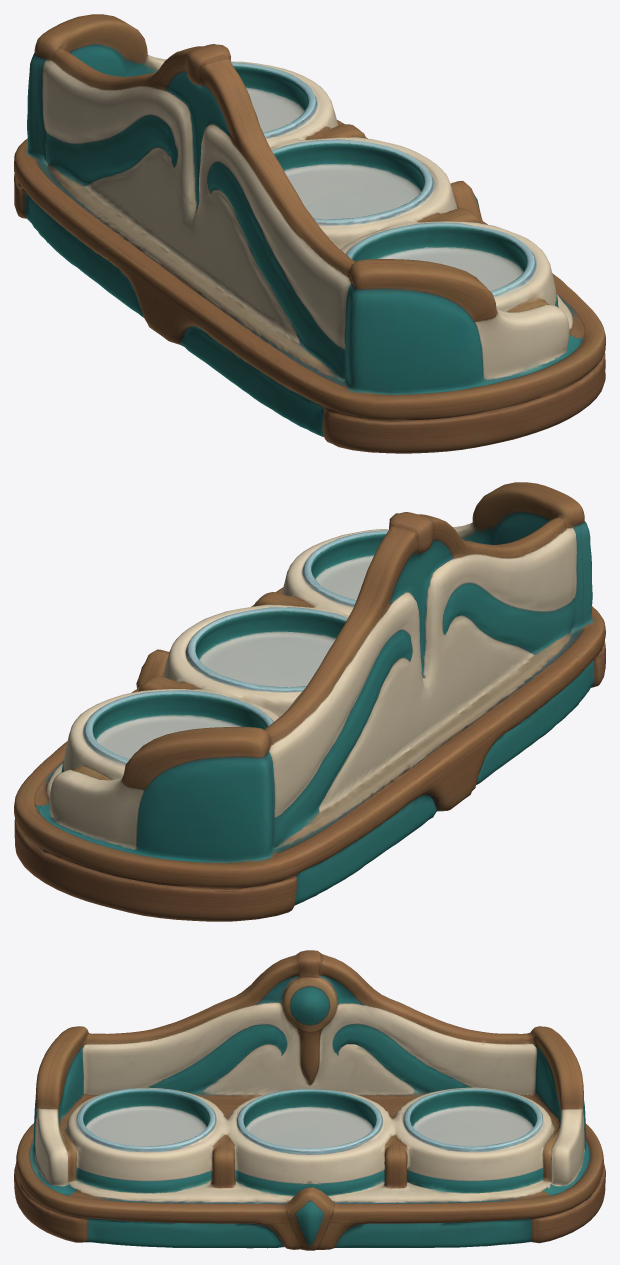
File: pack-furniture.glb
3 views of the same model, one above another, from view 1: azimuth 30°, elevation 25°; view 2: azimuth 150°, elevation 25°; view 3: azimuth 270°, elevation 25° (orthographic). The views are drawn at different scales.
Visible parts, largest first — view 1: tripo_node_8c84f304-114b-45f5-97cb-89c03fea65e0; view 2: tripo_node_8c84f304-114b-45f5-97cb-89c03fea65e0; view 3: tripo_node_8c84f304-114b-45f5-97cb-89c03fea65e0.
Boxes of the visible parts, x1,y1,x2,y2 form: tripo_node_8c84f304-114b-45f5-97cb-89c03fea65e0: [14, 14, 605, 453]; tripo_node_8c84f304-114b-45f5-97cb-89c03fea65e0: [14, 482, 605, 921]; tripo_node_8c84f304-114b-45f5-97cb-89c03fea65e0: [14, 950, 605, 1250].
Size of the model in its own units: 0.4551 by 0.3784 by 0.9763.
Materials: 1 (1 with a texture image).
